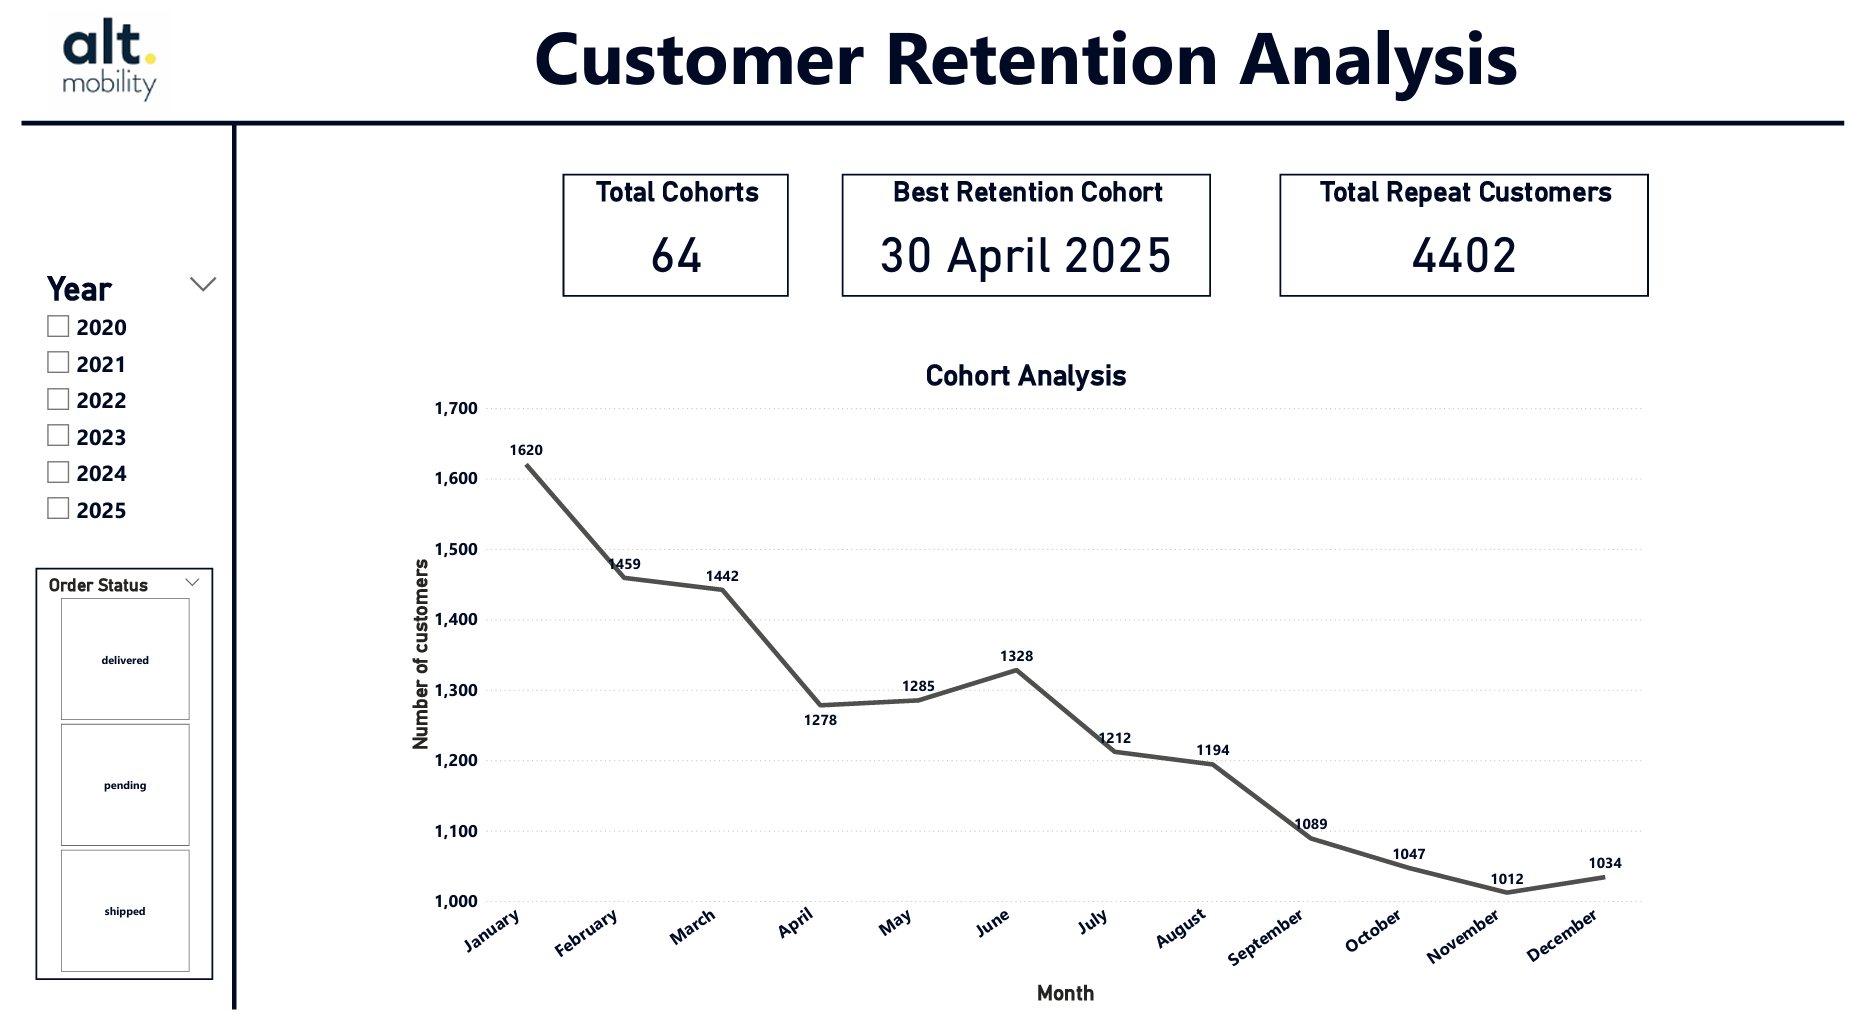

The dashboard page shown, as its layout file describes it:
{"tool":"powerbi","page":{"name":"Customer Retention","canvas":[2000,1100],"ordinal":1},"visuals":[{"type":"textbox","box":[502.9,0,1201,157.6],"z":0},{"type":"image","box":[0,0,195.2,129.5],"z":1000},{"type":"shape","box":[1.9,99.5,1998.5,58.2],"z":2000},{"type":"shape","box":[227.2,129.2,15.6,971.3],"z":3000},{"type":"lineChart","title":"Cohort Analysis","fields":{"Category":["customer_orders.FirstOrderMonth.Variation.Date Hierarchy.Month"],"Y":["CountNonNull(customer_orders.customer_id)"]},"box":[420.3,386.6,1366.1,713.1],"z":4000},{"type":"slicer","fields":{"Values":["customer_orders.FirstOrderMonth.Variation.Date Hierarchy.Year"]},"box":[16.9,283.4,212,307.8],"z":5000},{"type":"card","title":"Total Cohorts","fields":{"Values":["customer_orders.Total_Cohorts"]},"box":[594.9,183.9,247.7,135.1],"z":6000},{"type":"card","title":"Best Retention Cohort","fields":{"Values":["Min(customer_orders.Best Retention Cohort)"]},"box":[900.7,183.9,405.3,135.1],"z":7000},{"type":"card","title":"Total Repeat Customers","fields":{"Values":["customer_orders.TotalRepeatCustomers"]},"box":[1381.1,183.9,405.3,135.1],"z":8000},{"type":"slicer","fields":{"Values":["customer_orders.order_status"]},"box":[16.9,615.5,195.2,452.2],"z":8001}]}

Visuals, with their boxes in screenshot pixels (x1, y1, x2, y2), scaled from the page's 2000x1100 canvas onto the 1865x1016 screenshot:
textbox: <box>469,0,1589,146</box>
image: <box>0,0,182,120</box>
shape: <box>2,92,1864,146</box>
shape: <box>212,119,226,1015</box>
"Cohort Analysis" lineChart: <box>392,357,1666,1015</box>
slicer - customer_orders.FirstOrderMonth.Variation.Date Hierarchy.Year: <box>16,262,213,546</box>
"Total Cohorts" card: <box>555,170,786,295</box>
"Best Retention Cohort" card: <box>840,170,1218,295</box>
"Total Repeat Customers" card: <box>1288,170,1666,295</box>
slicer - customer_orders.order_status: <box>16,568,198,986</box>
